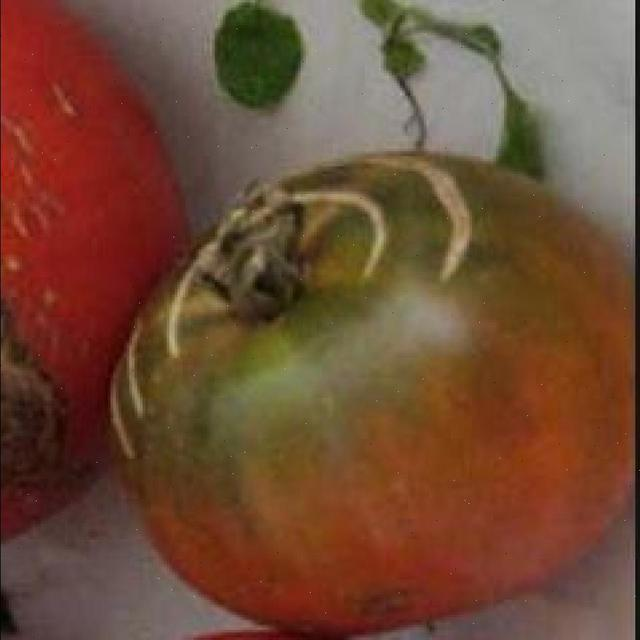Cracking Fruit: (41, 111, 284, 271)
